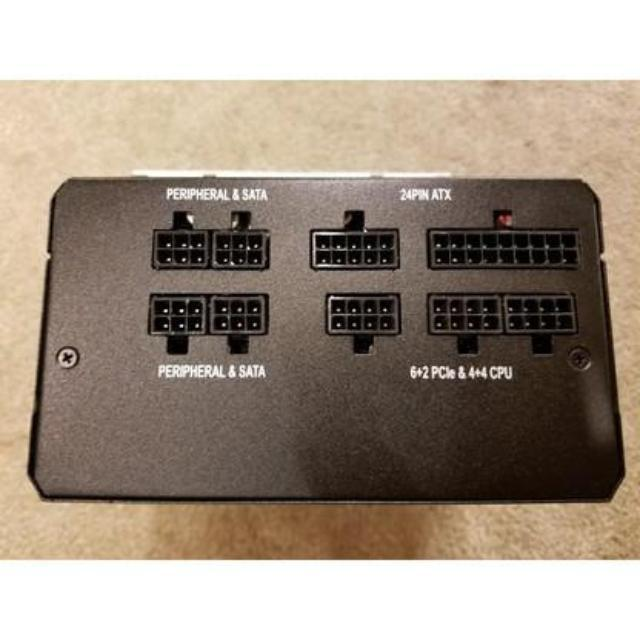PSU: (18, 152, 630, 520)
